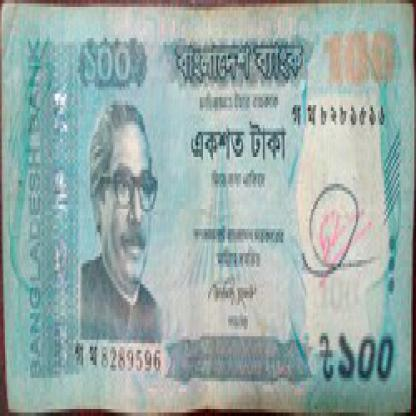one hundred taka: (318, 21, 396, 97), (68, 21, 141, 90)
